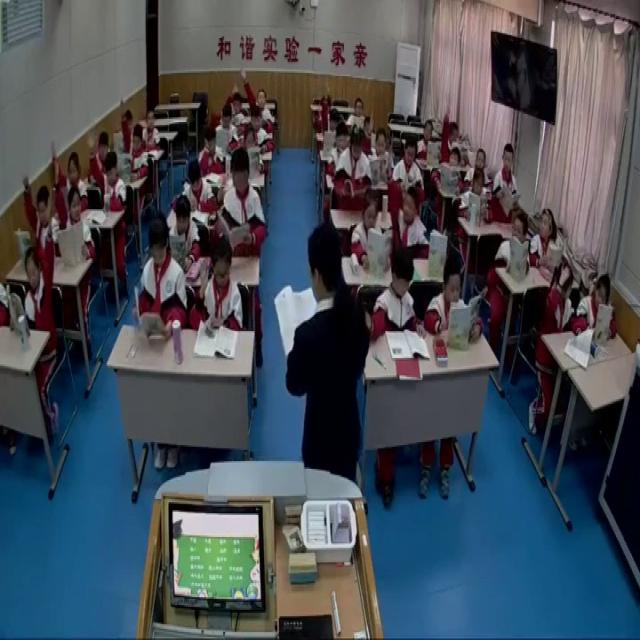distracted: (544, 256, 581, 338), (529, 204, 562, 268), (495, 212, 530, 271)
focused: (135, 212, 187, 338), (422, 259, 484, 344), (220, 152, 270, 254), (370, 248, 423, 342), (333, 127, 377, 212), (349, 187, 391, 272), (578, 270, 620, 340), (391, 132, 427, 212), (167, 197, 202, 269), (458, 162, 493, 228), (495, 140, 523, 222), (185, 156, 221, 214), (198, 124, 228, 176), (461, 147, 497, 186), (239, 124, 266, 175), (246, 108, 273, 157), (326, 123, 349, 176), (140, 107, 163, 156), (217, 104, 239, 148), (416, 119, 438, 163), (347, 92, 368, 132), (92, 126, 111, 165)
raising_hand: (17, 187, 59, 332), (385, 153, 432, 264), (194, 234, 244, 335), (51, 155, 96, 261), (86, 130, 128, 214), (22, 172, 63, 255), (117, 95, 151, 186), (48, 134, 88, 211), (240, 59, 277, 130), (438, 95, 465, 190), (362, 105, 391, 167), (319, 81, 340, 145)
